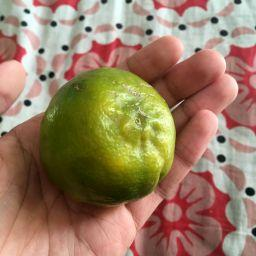Ripe: (39, 65, 179, 205)
